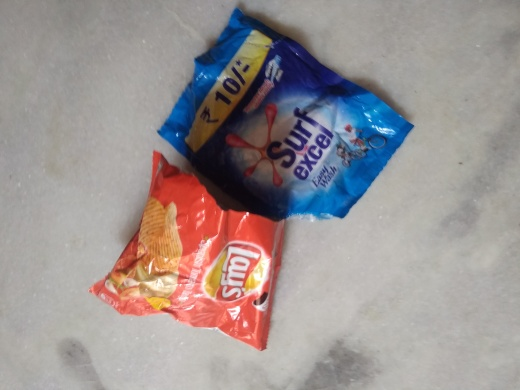lays: (84, 154, 290, 364)
surf: (153, 6, 423, 224)
